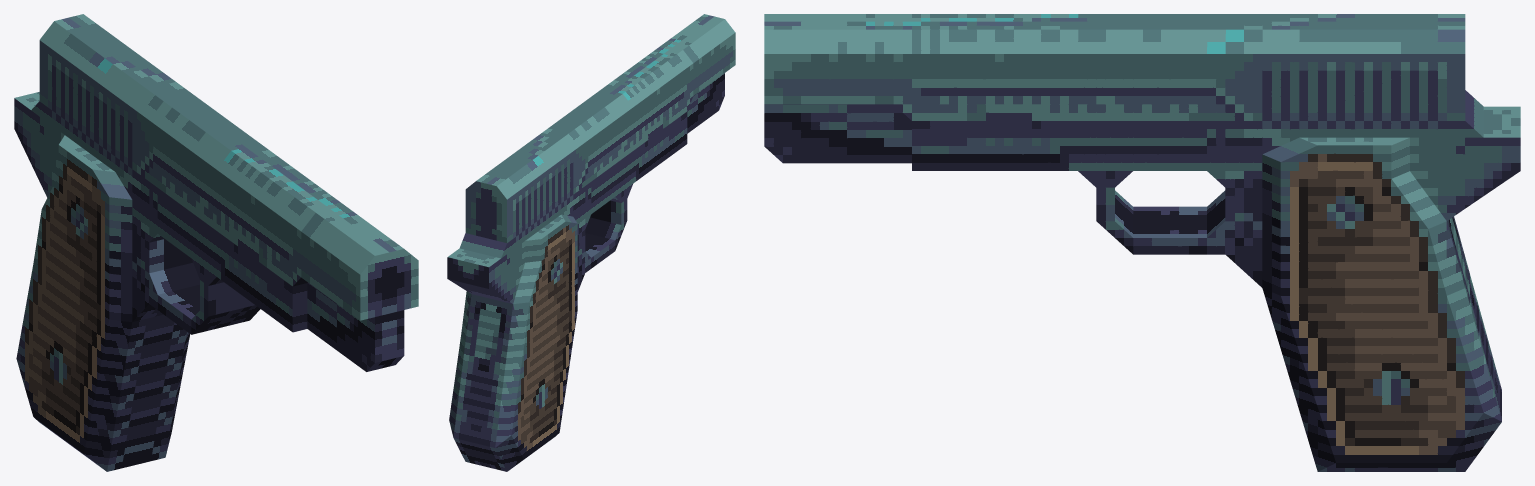
File: glock.glb
The picture shows the model from 3 angles, left to right: view 1: azimuth 30°, elevation 25°; view 2: azimuth 150°, elevation 25°; view 3: azimuth 270°, elevation 25°; orthographic projection. The views are drawn at different scales.
Visible parts, largest first — view 1: Plane_Plane.002; view 2: Plane_Plane.002; view 3: Plane_Plane.002.
Boxes of the visible parts, x1=… form: Plane_Plane.002: x1=14, y1=14, x2=418, y2=471; Plane_Plane.002: x1=447, y1=14, x2=735, y2=471; Plane_Plane.002: x1=764, y1=14, x2=1520, y2=471.
Size of the model in its own units: 0.15 by 0.65 by 1.02.
1 material, 1 textured.
